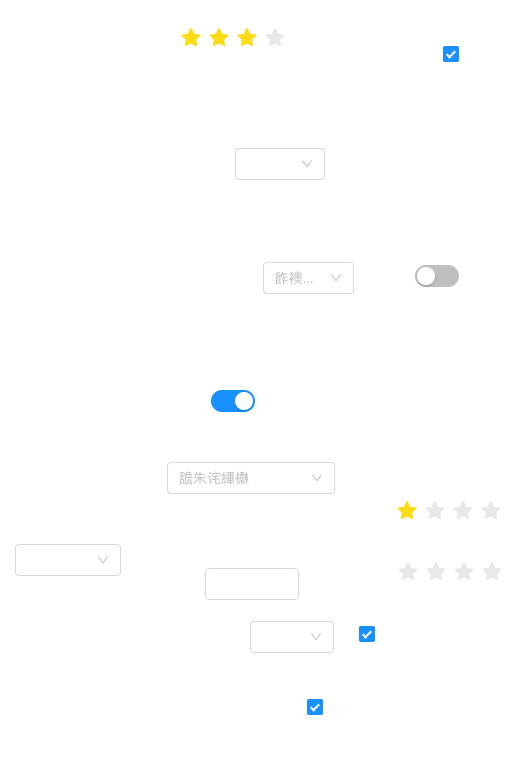Checkbox: (307, 696, 323, 717), (359, 623, 375, 644), (443, 43, 459, 64)
Input: (205, 568, 299, 600)
Rate: (181, 21, 301, 53), (397, 494, 517, 526), (398, 555, 518, 587)
Select: (167, 462, 335, 494), (15, 544, 121, 576), (263, 262, 354, 294), (235, 148, 325, 180), (250, 621, 334, 653)
Switch: (211, 389, 255, 413), (415, 264, 459, 288)
